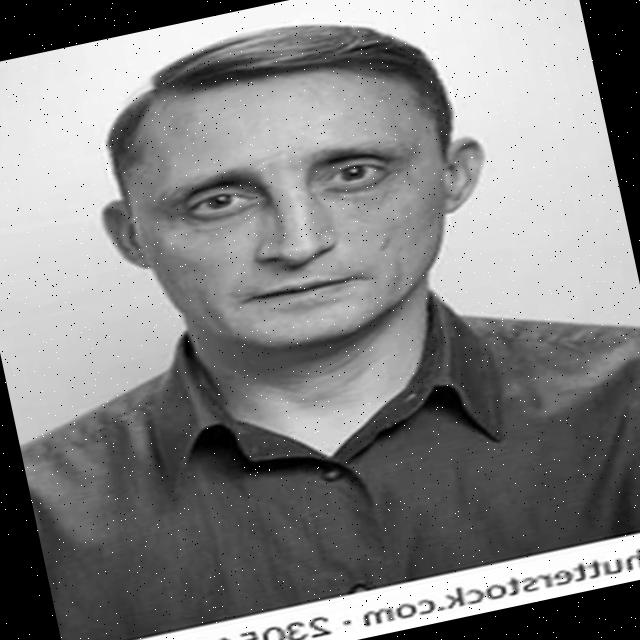Neutral: (114, 49, 474, 370)
